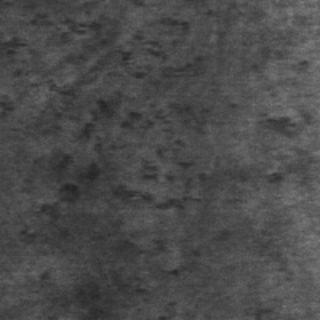rolled pit: (0, 8, 194, 198)
